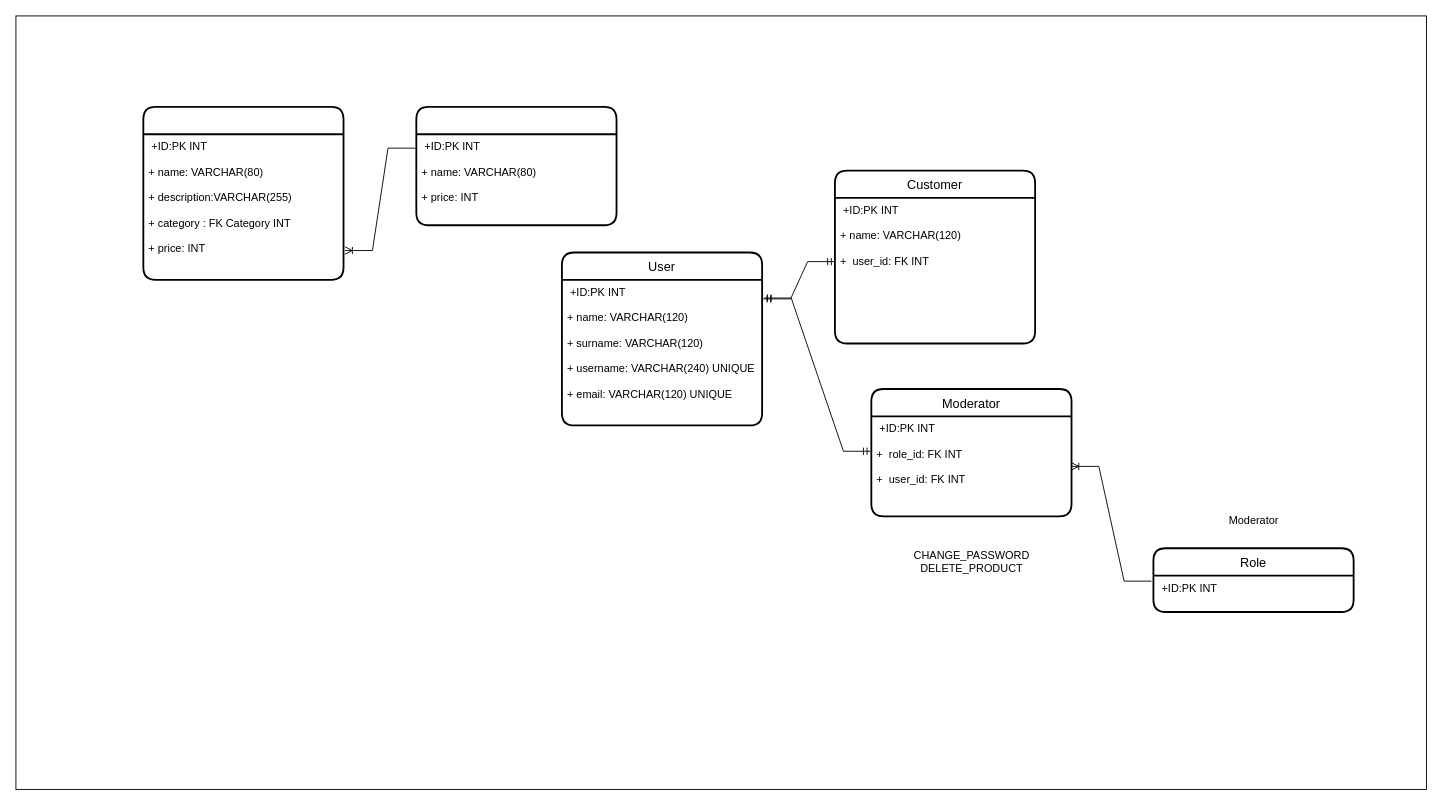
Some shapes in this 1442 by 805 pixel diagram are drawn without their labels. The box of each missing label's shape, as (x1, y1, x2, y2) in pixels:
Category: (415, 106, 617, 226)
Product: (142, 106, 344, 280)
